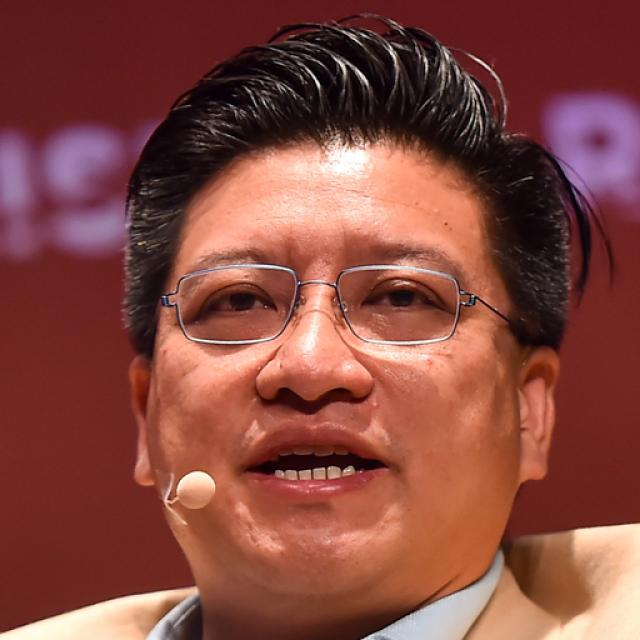Acne: (436, 343, 458, 361), (367, 397, 384, 417), (422, 353, 436, 367)
